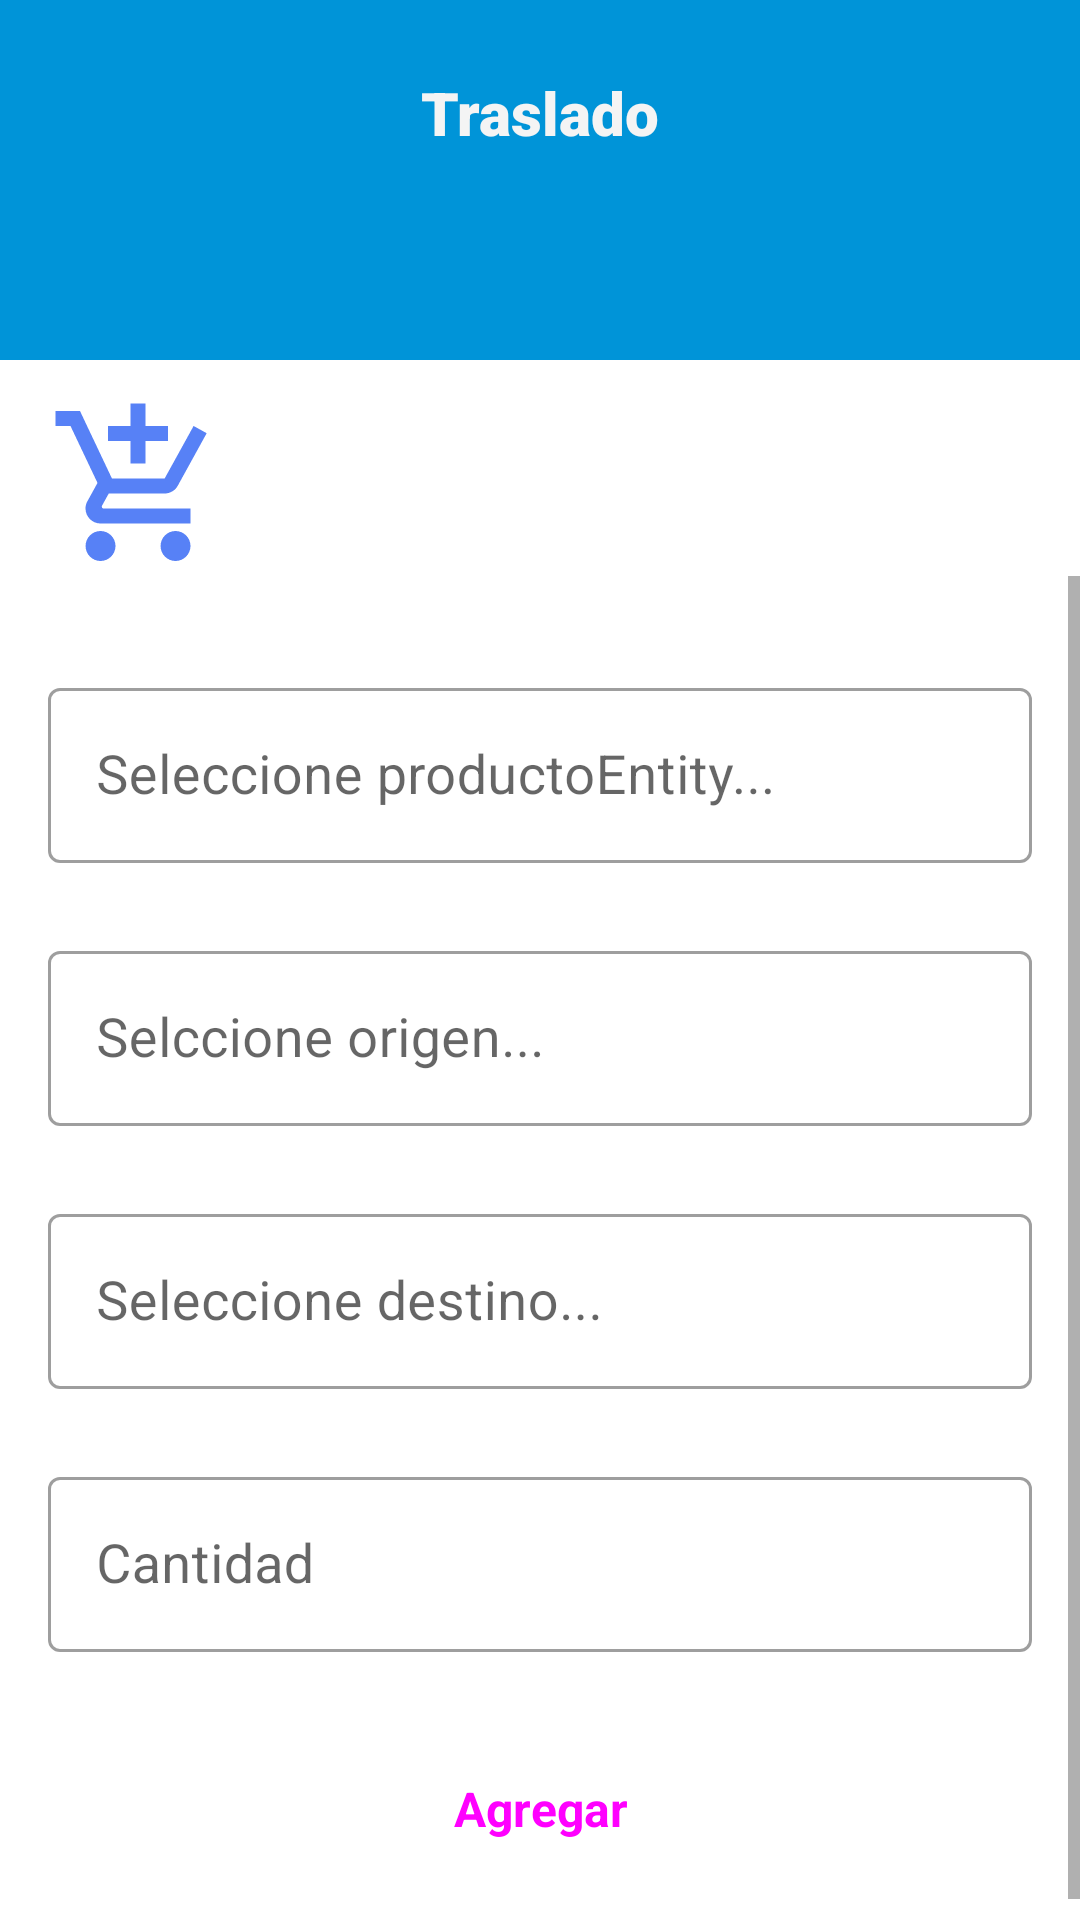

Named icons in this screenshot (1080 × 1920) and their bounding boxes, (x1, y1, x2, y2):
add shopping cart: (55, 403, 207, 561)
